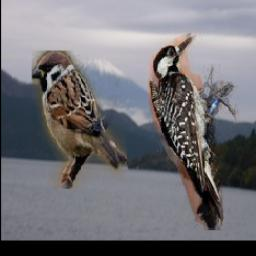Sparrow: (33, 51, 128, 189)
Woodpecker: (141, 30, 244, 231)
